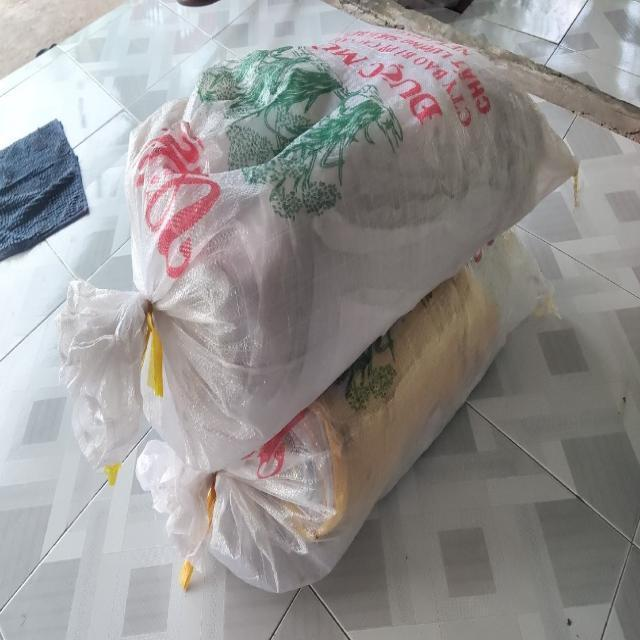gunny_bag: (125, 29, 578, 472), (137, 231, 551, 594), (59, 284, 144, 466)
